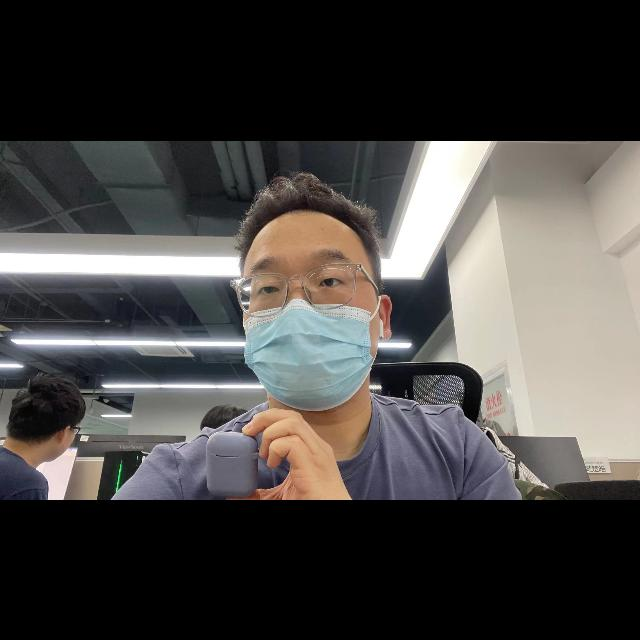airpods: (207, 431, 260, 498)
